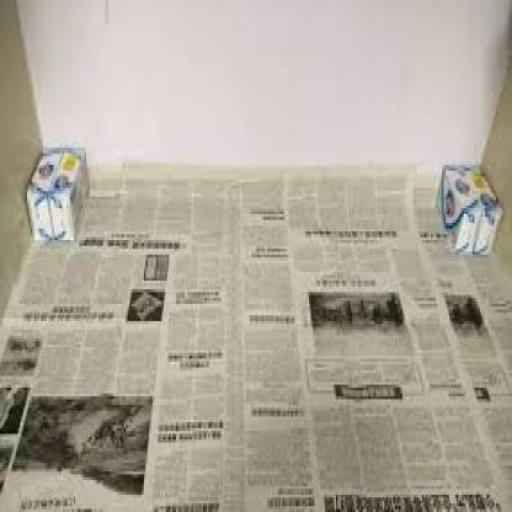paper: (0, 165, 511, 509), (228, 168, 510, 510), (0, 170, 239, 509)
